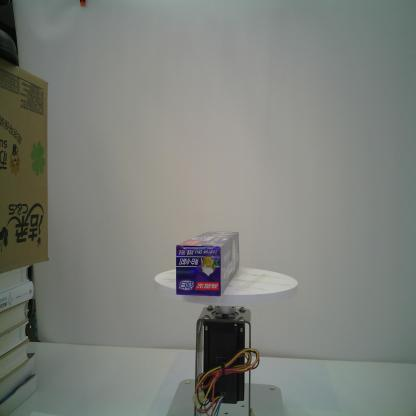Personal Hygiene: (174, 230, 242, 298)
